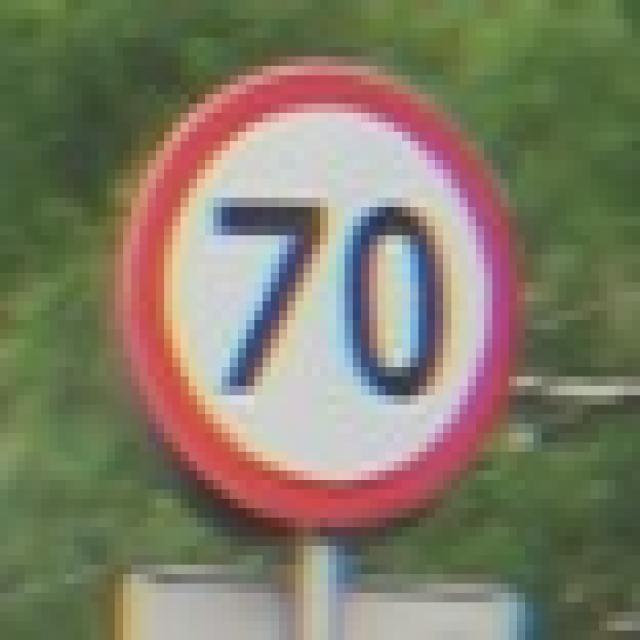Speed Limit -70-: (202, 190, 456, 409)
